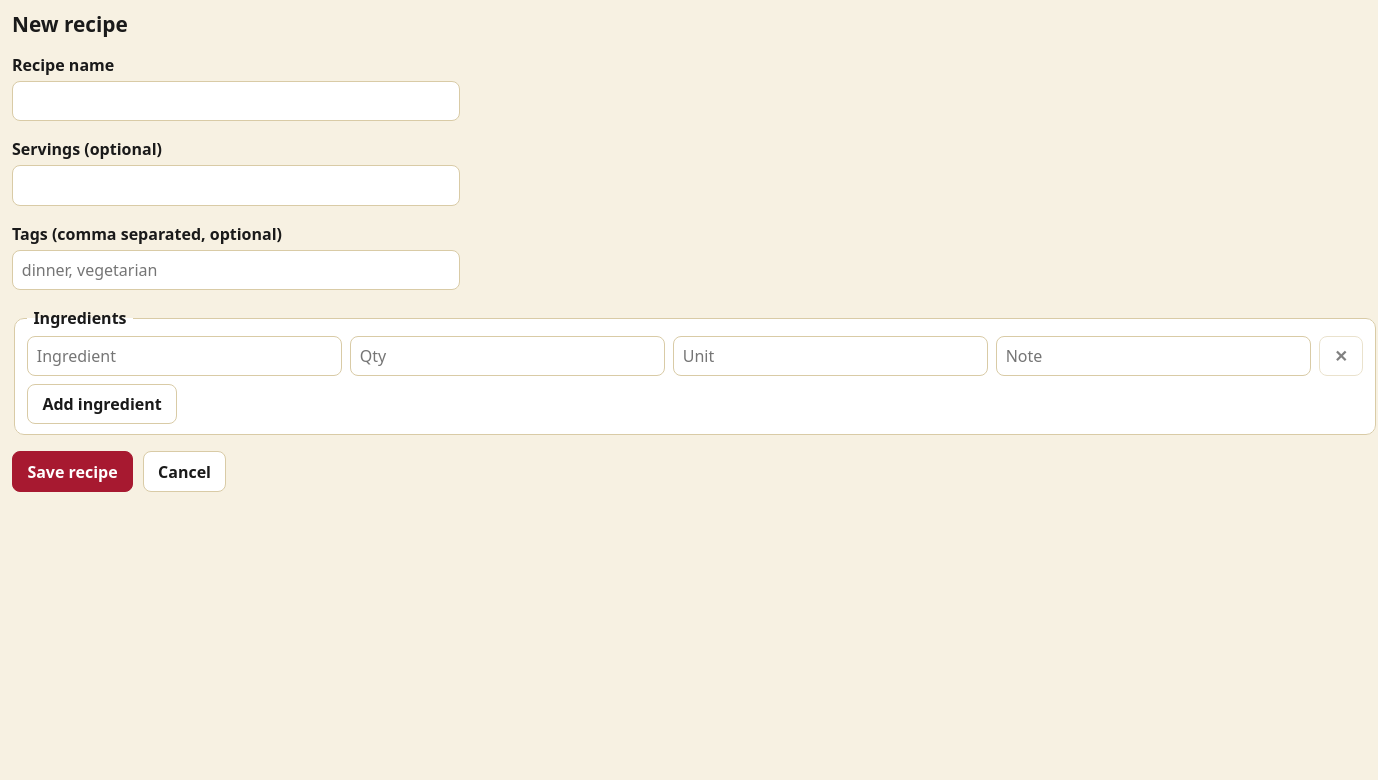
Test: RecipeForm › refuses to save without at least one ingredient
Type "Water" into the field labelled "Recipe name" at (236, 101), box [12,81,460,121]
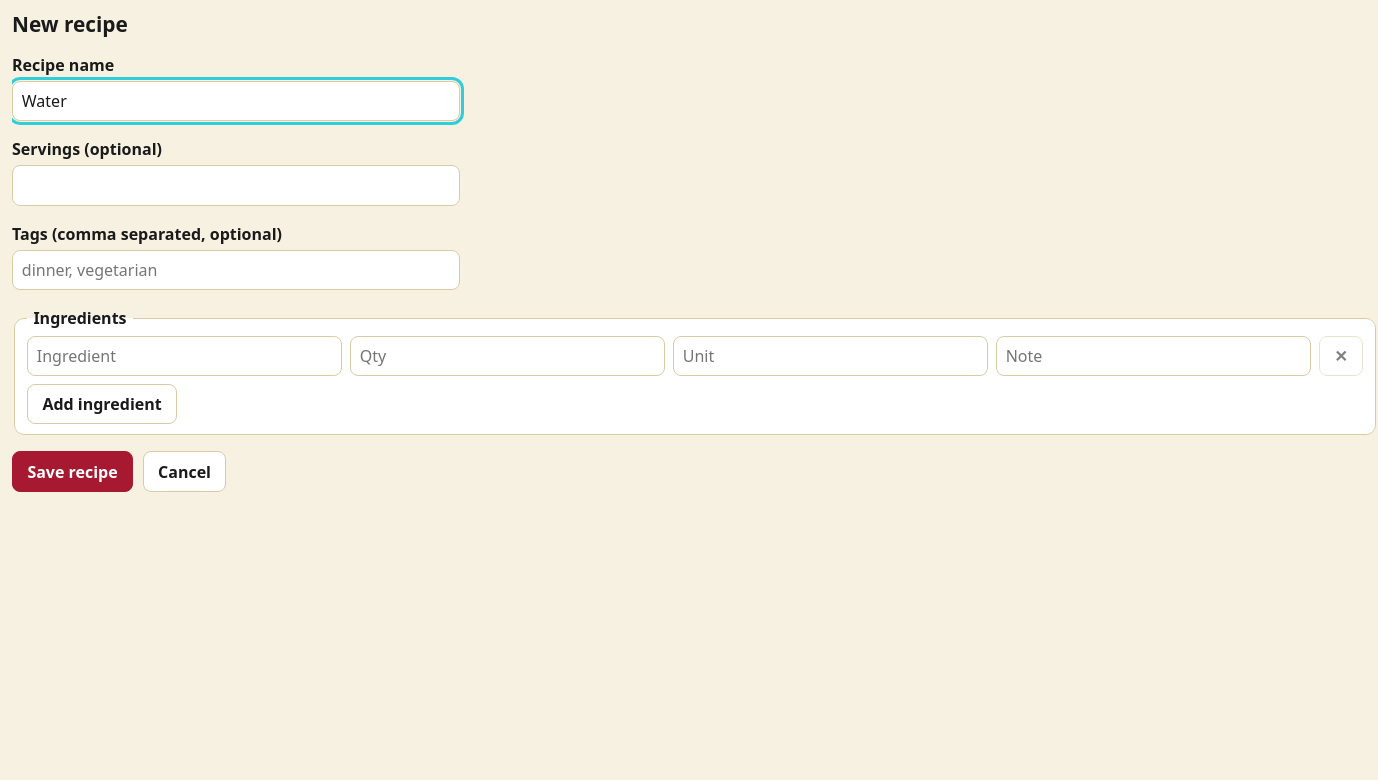
Click the button "Save recipe" at (73, 472), box [12,451,133,492]
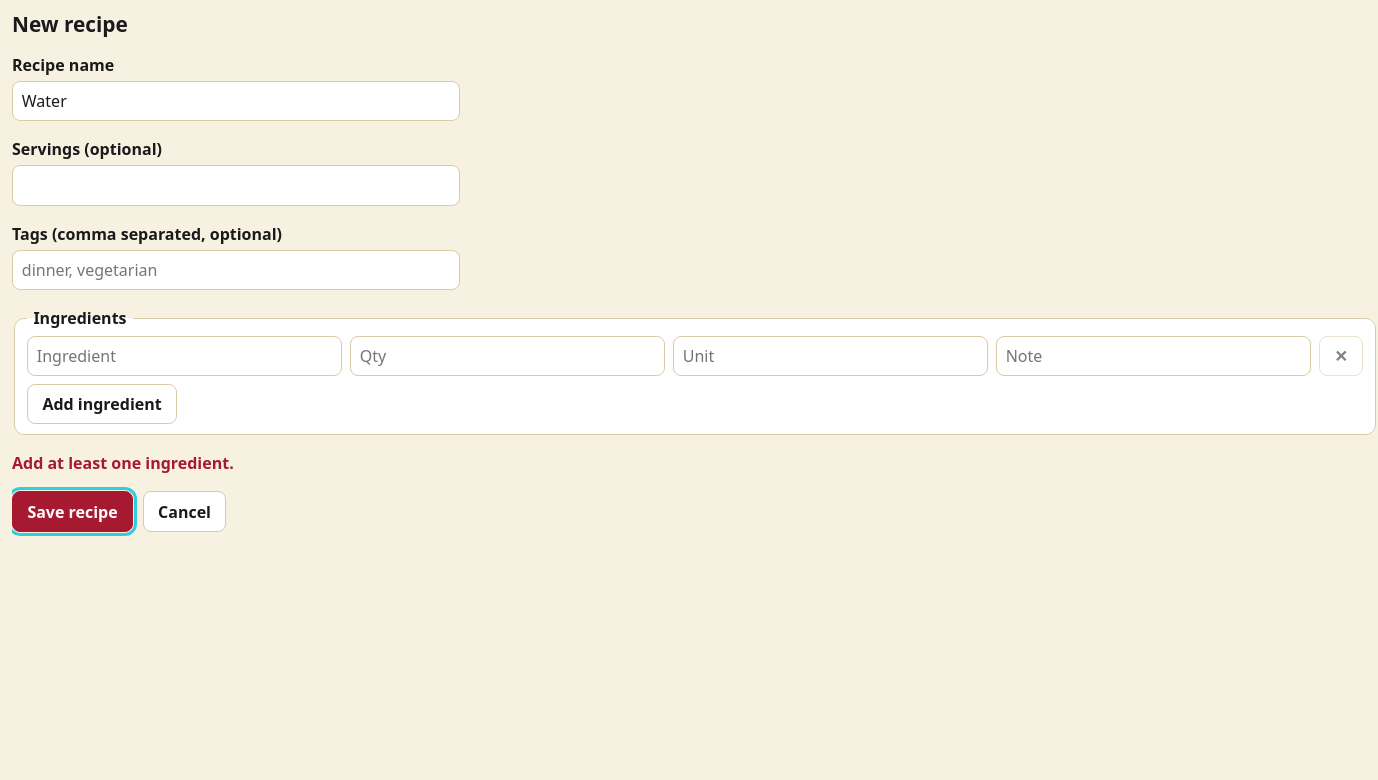
Now the message shows "at least one ingredient", box [12,452,234,474]
